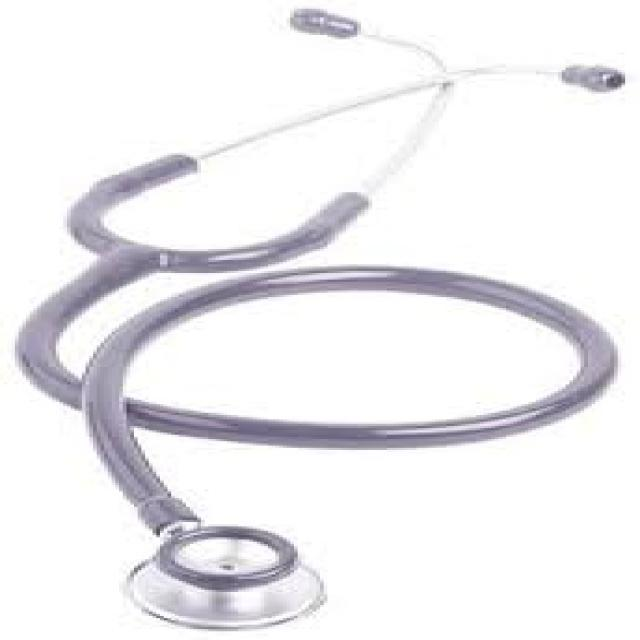stethoscope: (23, 10, 612, 608)
